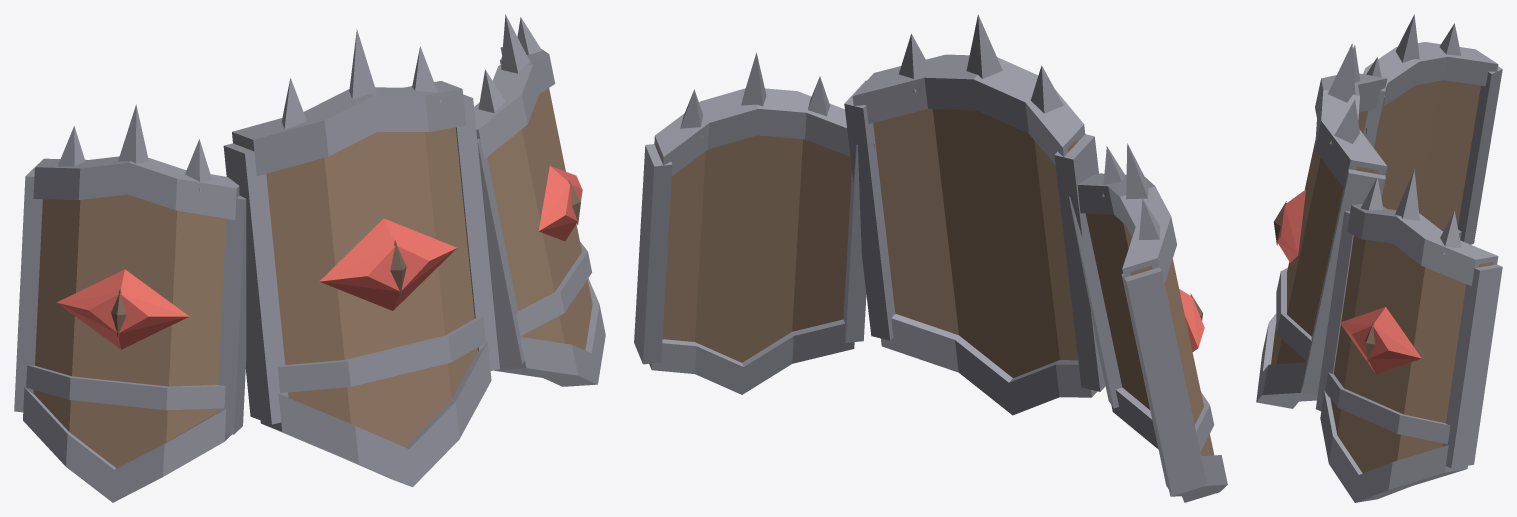
File: prop_ghar_shieldwall.glb
3 views of the same model, side by side, from view 1: azimuth 30°, elevation 25°; view 2: azimuth 150°, elevation 25°; view 3: azimuth 270°, elevation 25° (orthographic). The views are drawn at different scales.
Visible parts, largest first — view 1: prop_ghar_shieldwall; view 2: prop_ghar_shieldwall; view 3: prop_ghar_shieldwall.
Boxes of the visible parts, left/top/right/bottom form: prop_ghar_shieldwall: left=14, top=14, right=605, bottom=502; prop_ghar_shieldwall: left=634, top=14, right=1227, bottom=502; prop_ghar_shieldwall: left=1256, top=14, right=1502, bottom=502.
Bounding box in the file's own units: 2.34 × 1.67 × 1.02.
